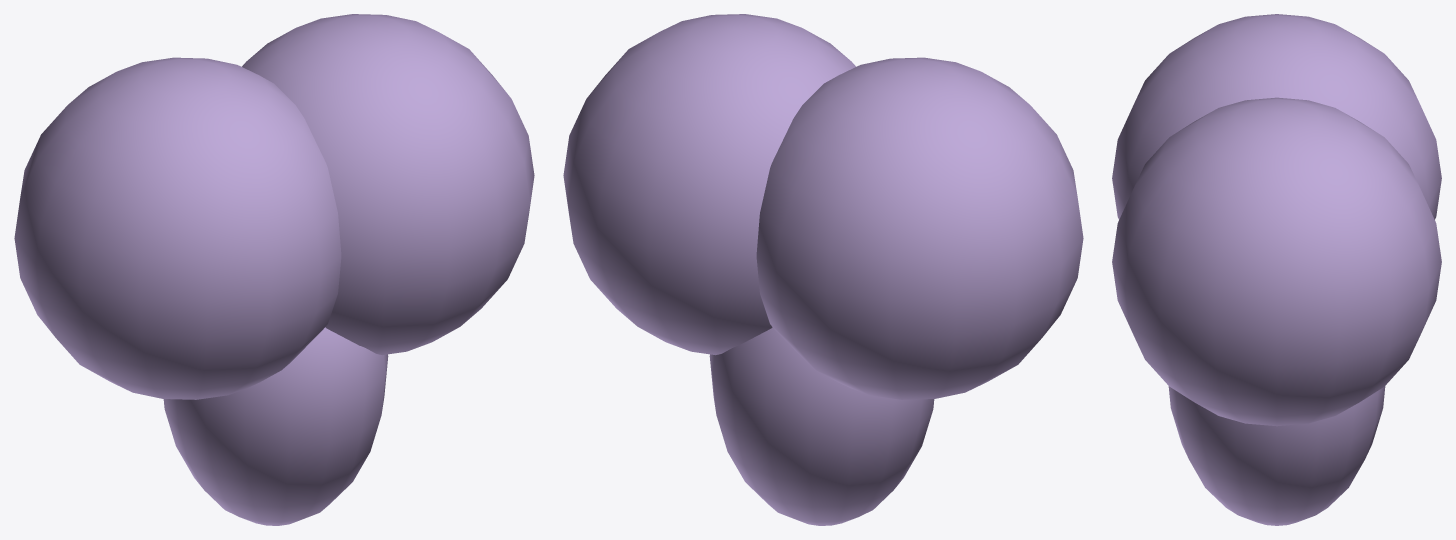
Rendered from heart.glb.
3 views of the same model, side by side, from view 1: azimuth 30°, elevation 25°; view 2: azimuth 150°, elevation 25°; view 3: azimuth 270°, elevation 25° (orthographic). The views are drawn at different scales.
Size of the model in its own units: 0.96 by 0.9 by 0.6.
